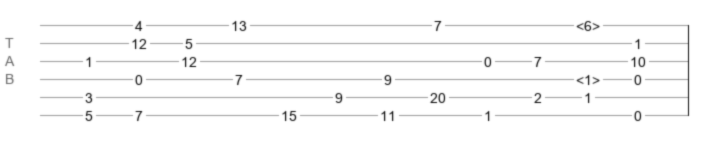0: (135, 72, 143, 82), (484, 54, 492, 64), (634, 72, 642, 82), (634, 108, 642, 118)
1: (85, 54, 93, 64), (484, 108, 492, 118), (584, 90, 592, 100), (634, 36, 642, 46)
10: (630, 54, 646, 64)
11: (380, 108, 396, 118)
12: (131, 36, 147, 46), (181, 54, 197, 64)
13: (231, 18, 247, 28)
15: (281, 108, 297, 118)
2: (534, 90, 542, 100)
20: (430, 90, 446, 100)
3: (85, 90, 93, 100)
4: (135, 18, 143, 28)
5: (85, 108, 93, 118), (185, 36, 193, 46)
7: (135, 108, 143, 118), (235, 72, 243, 82), (434, 18, 442, 28), (534, 54, 542, 64)
9: (335, 90, 343, 100), (384, 72, 392, 82)
harmonic: (576, 72, 600, 82), (576, 18, 600, 28)
